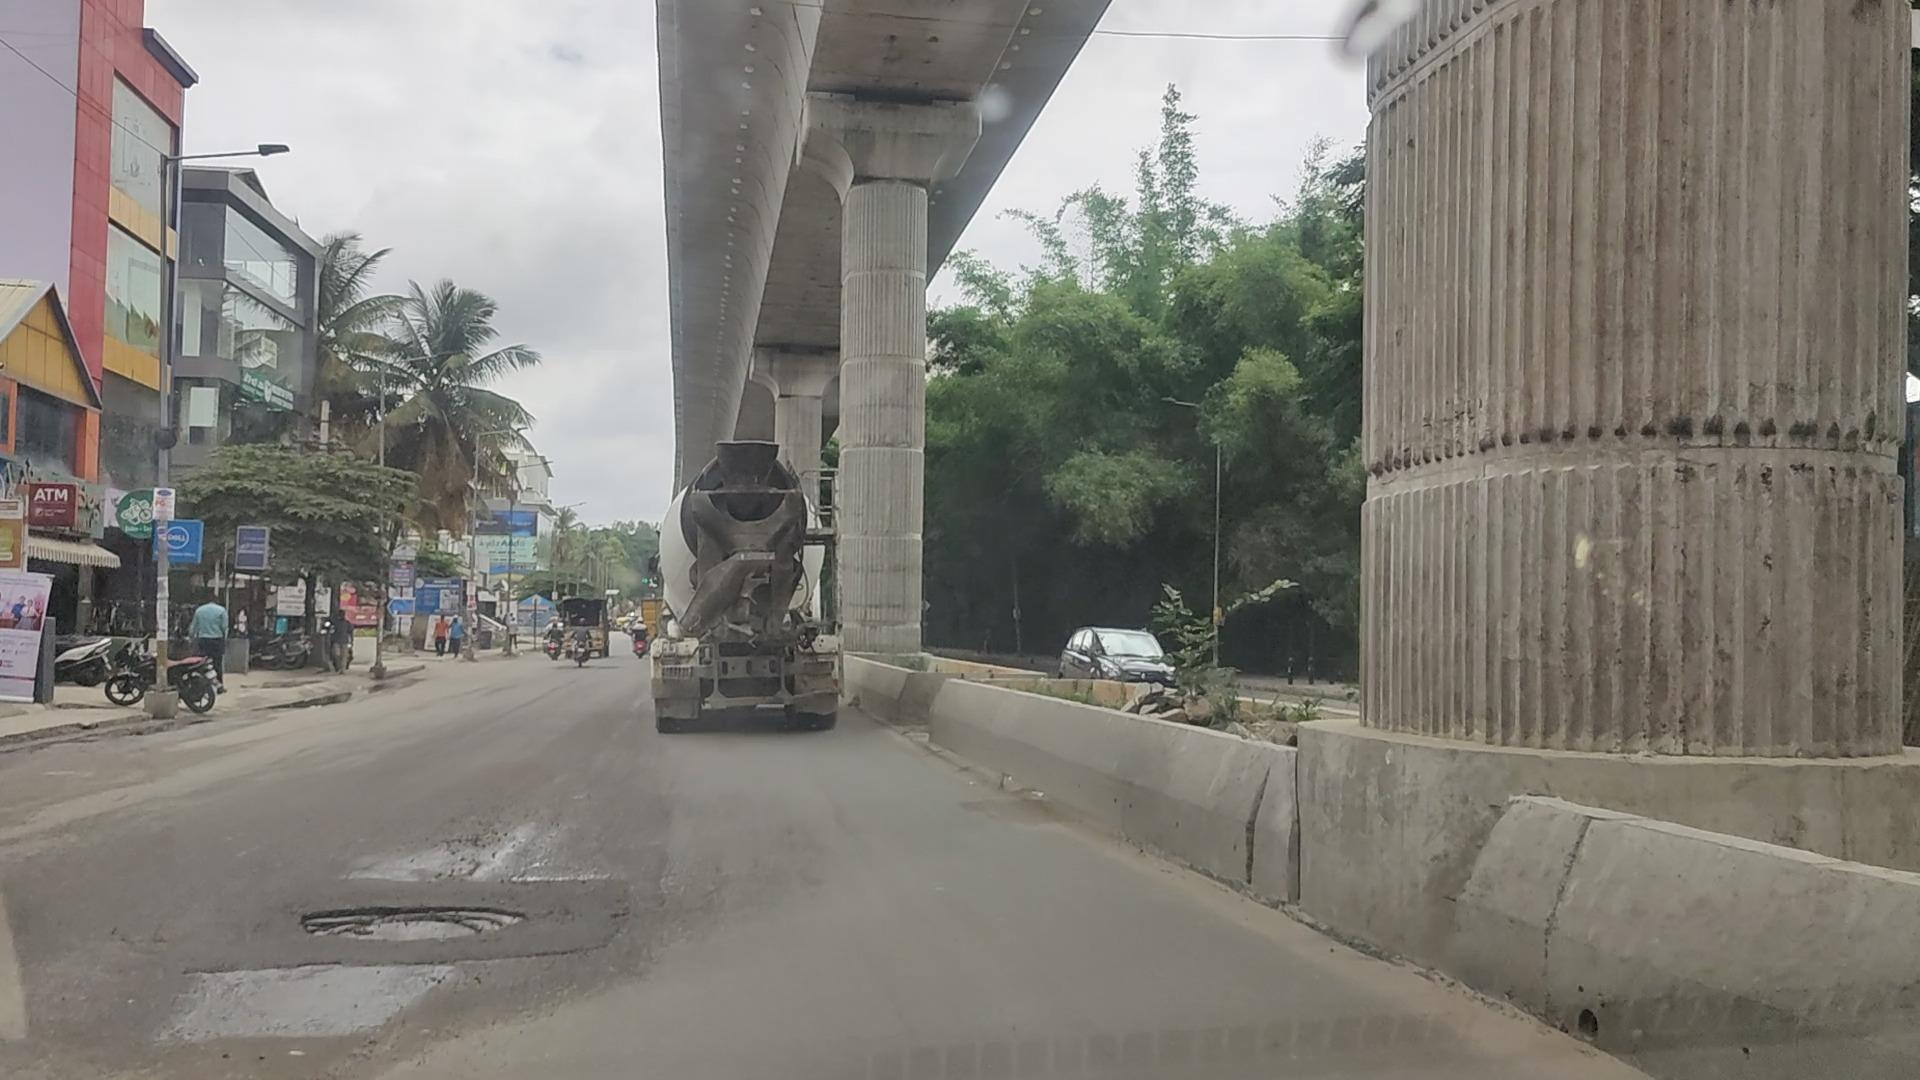HMV: (652, 445, 840, 728)
RoadDamages: (187, 960, 487, 1047), (297, 881, 536, 949), (388, 816, 566, 876)
